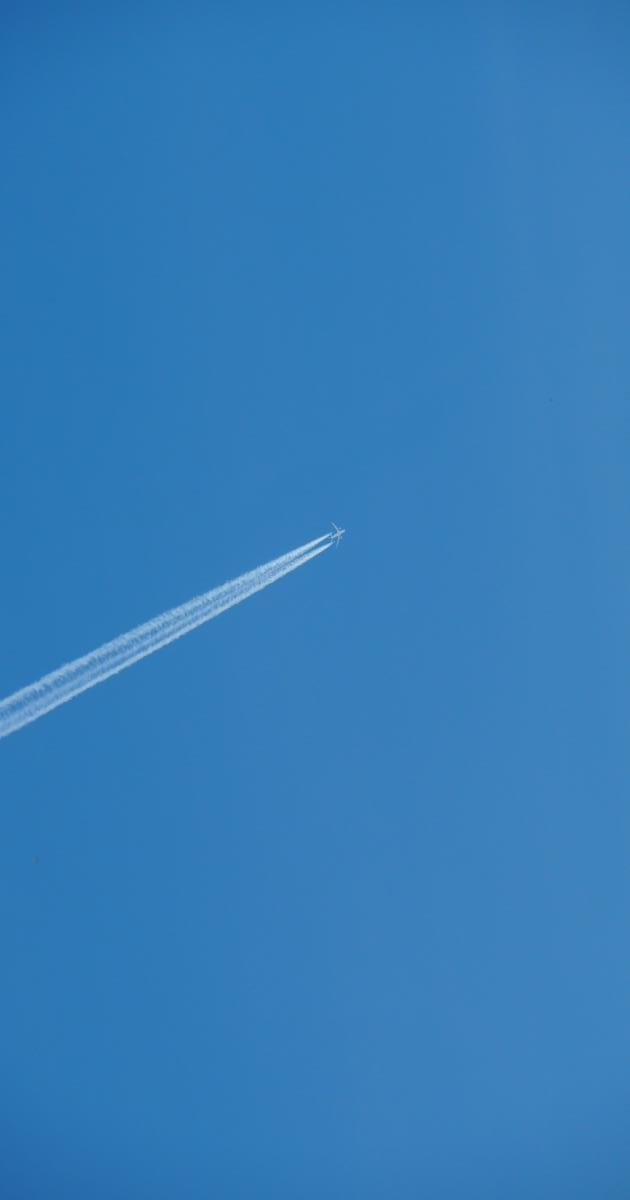Plane: (8, 464, 366, 773)
